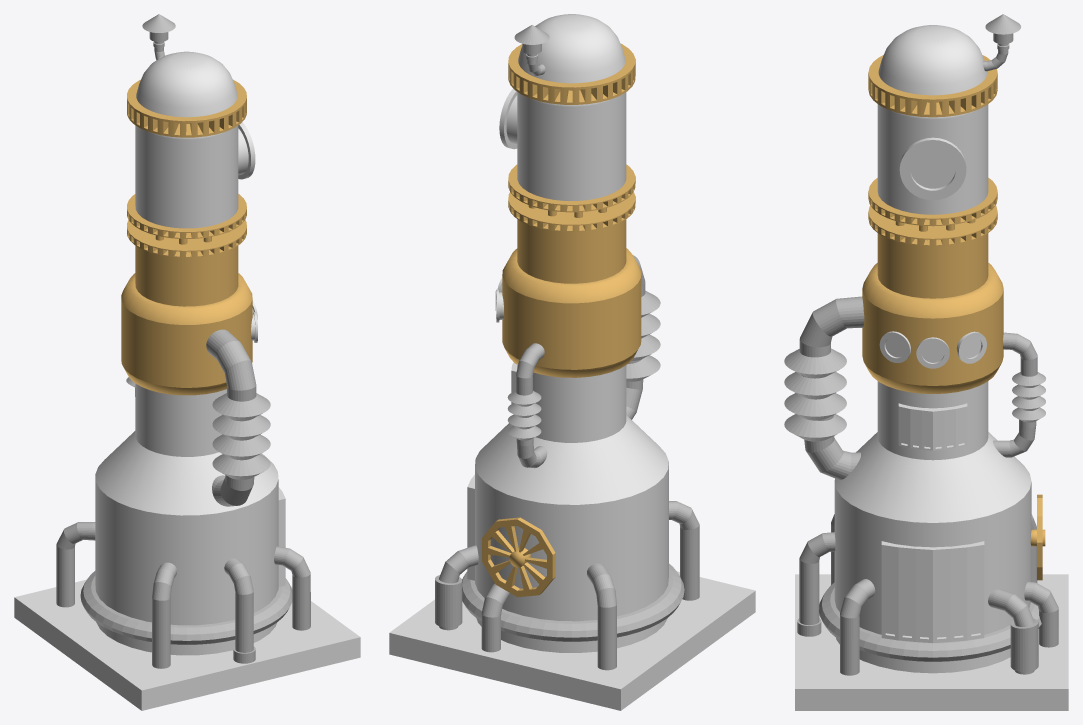
The model's file is electric.fbx.
3 views of the same model, side by side, from view 1: azimuth 30°, elevation 25°; view 2: azimuth 150°, elevation 25°; view 3: azimuth 270°, elevation 25° (orthographic). The views are drawn at different scales.
Visible parts, largest first — view 1: Circle.003; view 2: Circle.003; view 3: Circle.003.
Part boxes in pixels (<box>): Circle.003: <box>14,14,360,710</box>; Circle.003: <box>389,14,755,710</box>; Circle.003: <box>784,14,1068,710</box>.
Size of the model in its own units: 37.1 by 35.39 by 92.44.
